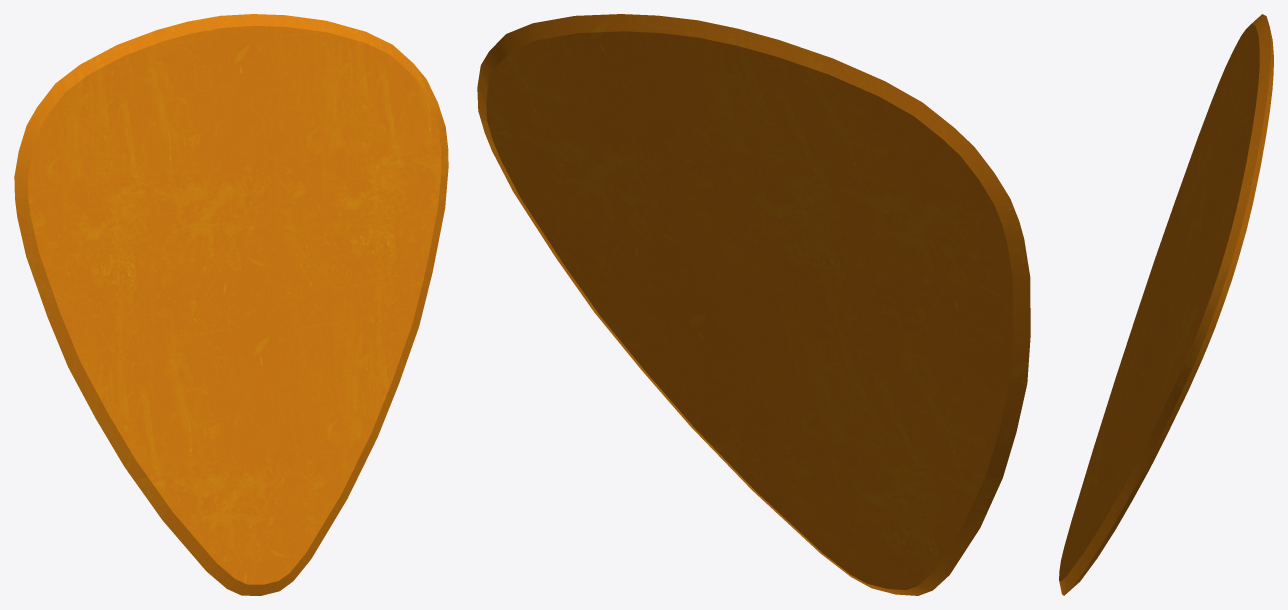
Rendered from palheta.glb.
3 renders of one model, left to right at view 1: azimuth 30°, elevation 25°; view 2: azimuth 150°, elevation 25°; view 3: azimuth 270°, elevation 25°, orthographic. The views are drawn at different scales.
Parts seen in each view (by area): view 1: Plectrum; view 2: Plectrum; view 3: Plectrum.
Boxes of the visible parts, x1,y1,x2,y2 form: Plectrum: (14,14,448,595); Plectrum: (477,14,1030,595); Plectrum: (1059,14,1273,595).
Size of the model in its own units: 2.61 by 2.94 by 1.06.
1 material, 1 textured.
